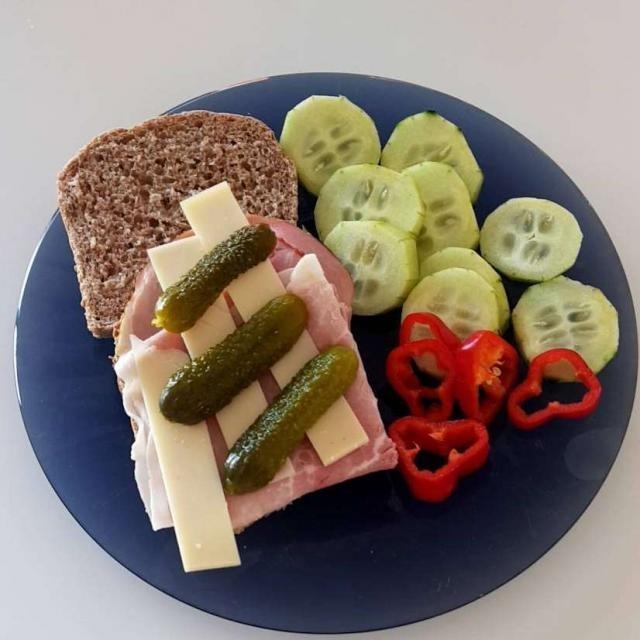bell-pepper: (389, 322, 592, 484)
bread: (50, 109, 290, 333)
cucumber: (283, 96, 616, 363)
gruyere: (130, 184, 363, 570)
ham: (139, 221, 395, 527)
